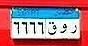6: (37, 21, 44, 35), (13, 21, 20, 35), (29, 22, 36, 34), (21, 21, 27, 35)
qaaf: (47, 22, 58, 35)
raa: (69, 23, 78, 35)
waw: (60, 23, 68, 34)
